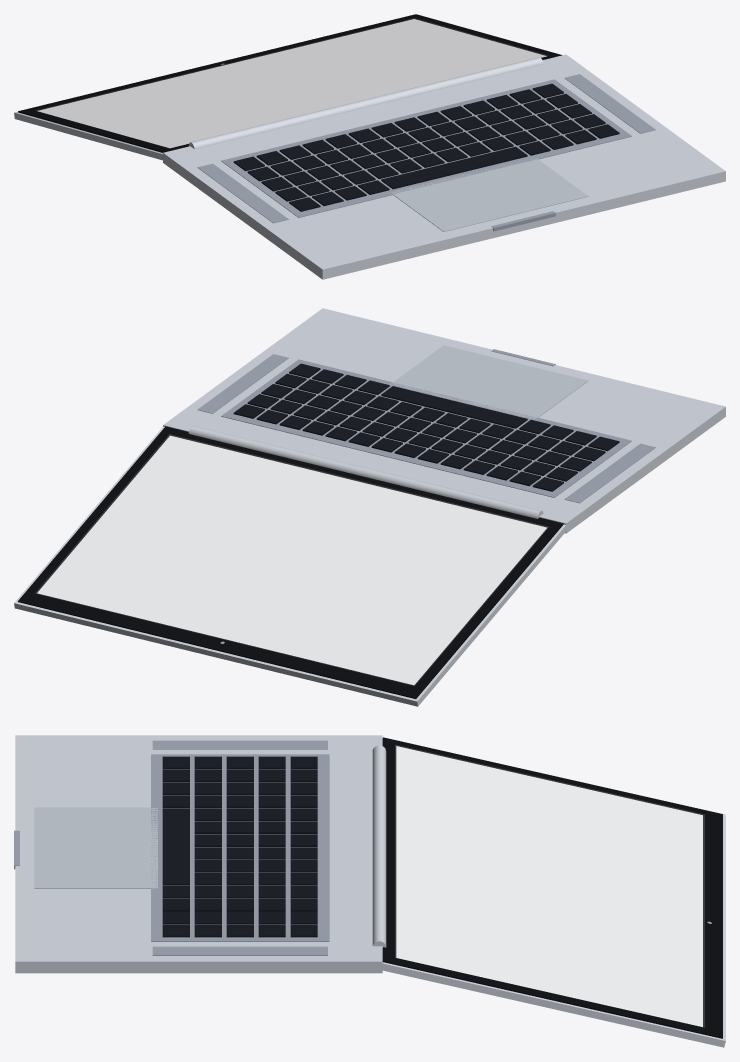
The model's file is gloro-laptop.glb.
3 renders of one model, top to bottom at view 1: azimuth 30°, elevation 25°; view 2: azimuth 150°, elevation 25°; view 3: azimuth 270°, elevation 25°, orthographic. The views are drawn at different scales.
Visible parts, largest first — view 1: Chassis_Main, ScreenSurface, ScreenGlass, Keyboard_Deck, Keyboard_Well, Trackpad, Screen_Bezel, Hinge_Bar, BaseChassis, Lid_Back; view 2: ScreenGlass, ScreenSurface, Chassis_Main, Keyboard_Deck, Screen_Bezel, Keyboard_Well, Trackpad, Lid_Back, Hinge_Bar, BaseChassis; view 3: ScreenGlass, ScreenSurface, Chassis_Main, Keyboard_Deck, Screen_Bezel, Keyboard_Well, Trackpad, Lid_Back, BaseChassis, Hinge_Bar.
Part boxes in pixels (x1,y1,x2,y2): Chassis_Main: (163, 54, 725, 279); ScreenSurface: (37, 19, 546, 148); ScreenGlass: (37, 18, 546, 147); Keyboard_Deck: (233, 83, 619, 211); Keyboard_Well: (221, 79, 631, 217); Trackpad: (390, 158, 588, 231); Screen_Bezel: (18, 14, 561, 152); Hinge_Bar: (188, 57, 543, 149); BaseChassis: (197, 74, 655, 231); Lid_Back: (14, 14, 562, 160); ScreenGlass: (36, 434, 548, 685); ScreenSurface: (37, 435, 546, 685); Chassis_Main: (163, 308, 725, 533); Keyboard_Deck: (233, 363, 619, 491); Screen_Bezel: (18, 426, 563, 698); Keyboard_Well: (221, 359, 631, 497); Trackpad: (390, 345, 588, 419); Lid_Back: (14, 426, 566, 706); Hinge_Bar: (188, 425, 543, 518); BaseChassis: (197, 349, 655, 503); ScreenGlass: (395, 745, 704, 1026); ScreenSurface: (396, 746, 702, 1026); Chassis_Main: (15, 735, 382, 973); Keyboard_Deck: (162, 756, 317, 937); Screen_Bezel: (382, 737, 722, 1038); Keyboard_Well: (151, 754, 329, 941); Trackpad: (34, 807, 157, 888); Lid_Back: (379, 737, 725, 1047); BaseChassis: (14, 740, 327, 955); Hinge_Bar: (372, 745, 386, 947).
Bounding box in the file's own units: 3.12 × 0.5859 × 4.15.
